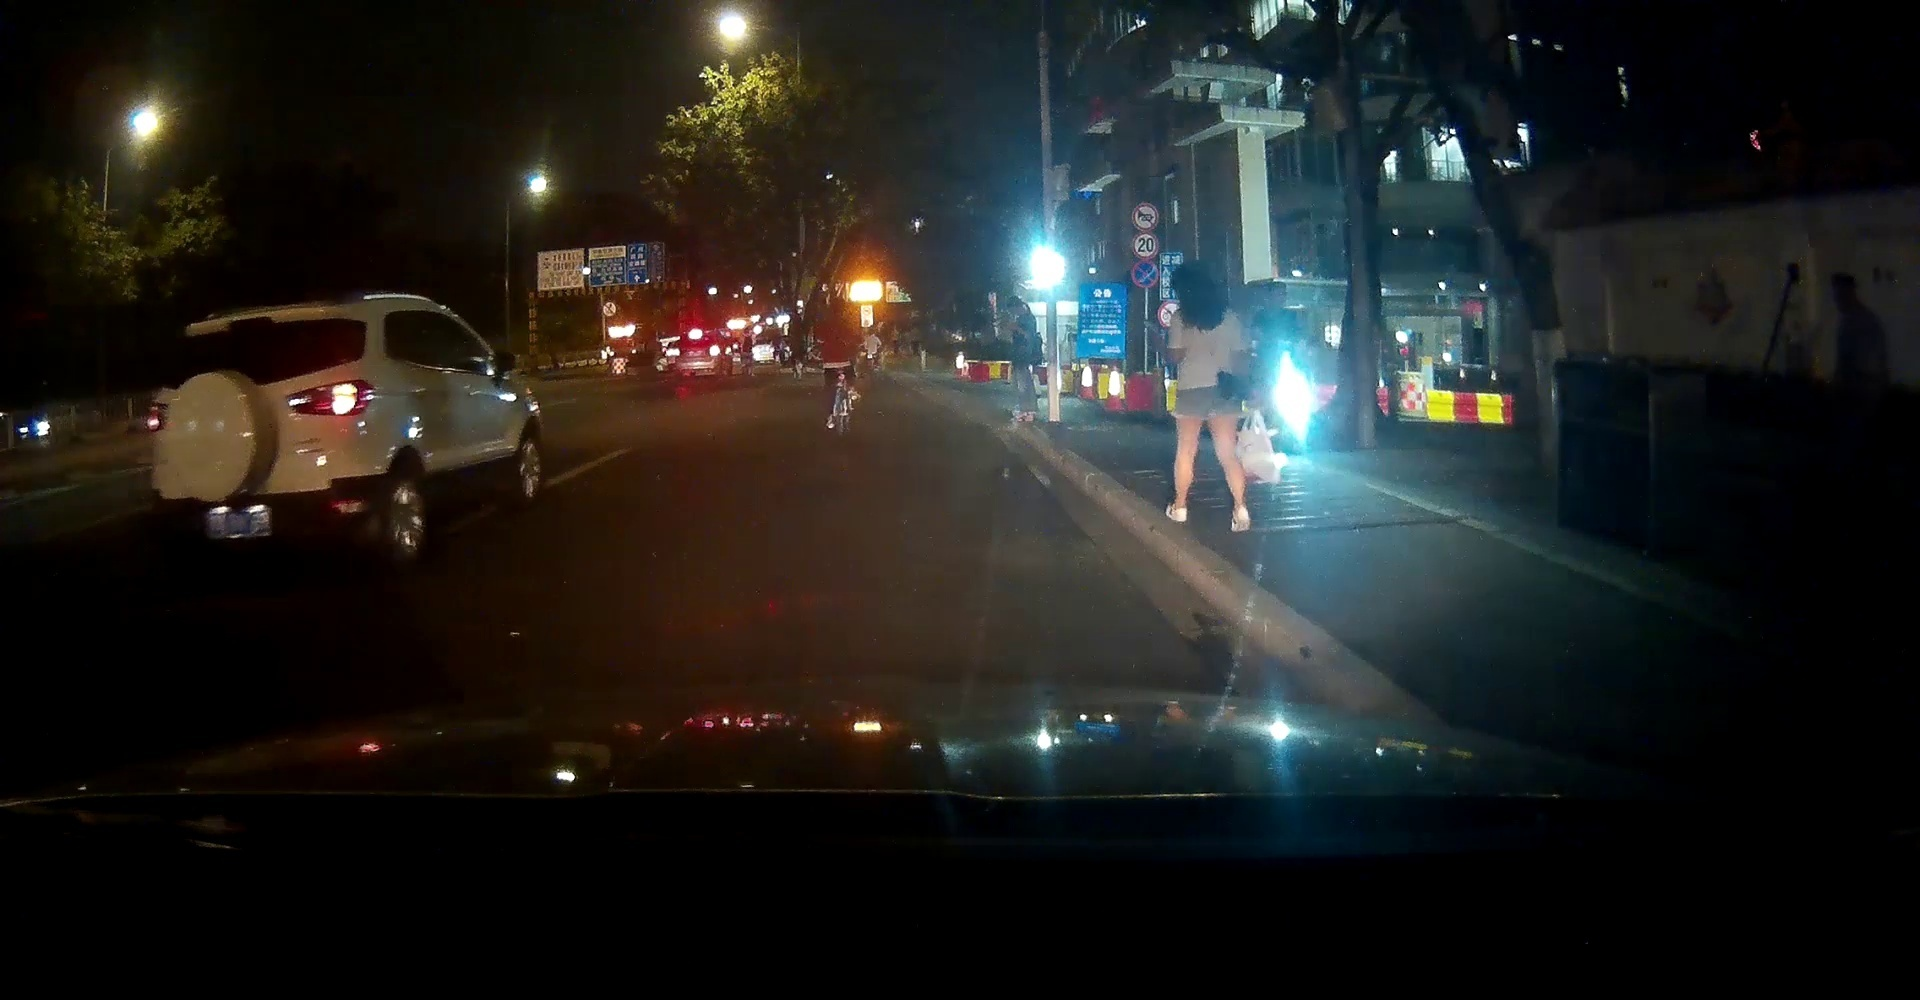L_light: (145, 402, 168, 431)
R_light: (284, 378, 375, 416)
T_light: (229, 316, 273, 330)
night-right: (142, 297, 389, 558)
